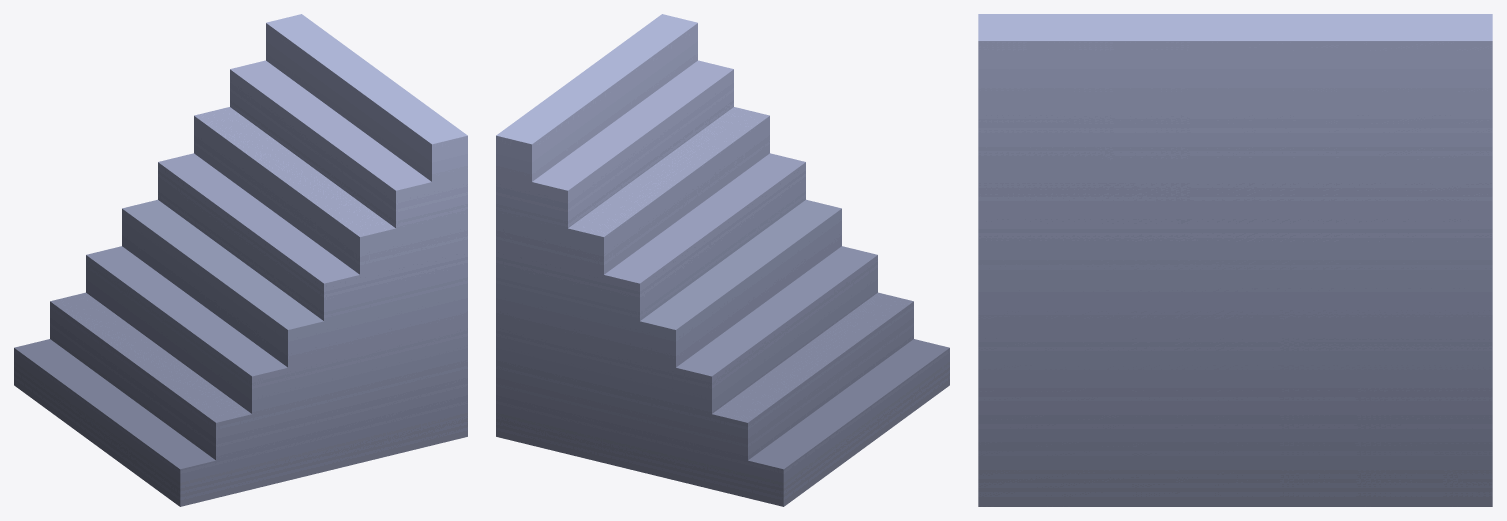
File: stairs-small.glb
3 renders of one model, left to right at view 1: azimuth 30°, elevation 25°; view 2: azimuth 150°, elevation 25°; view 3: azimuth 270°, elevation 25°, orthographic. The views are drawn at different scales.
Parts seen in each view (by area): view 1: stairs-small; view 2: stairs-small; view 3: stairs-small.
Boxes of the visible parts, box(x1,y1,x2,y2) form: stairs-small: box(14, 14, 467, 506); stairs-small: box(496, 14, 949, 506); stairs-small: box(978, 14, 1492, 506).
Bounding box in the file's own units: 1 × 1 × 1.
Materials: 1 (1 with a texture image).
